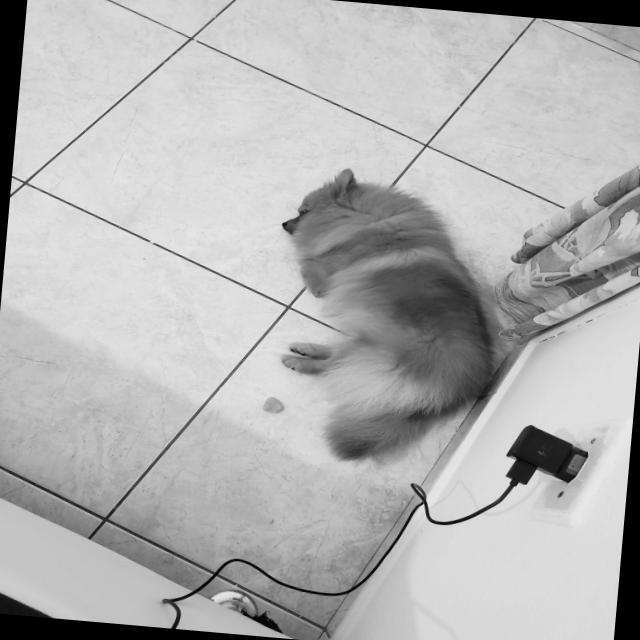laying down: (226, 155, 519, 478)
